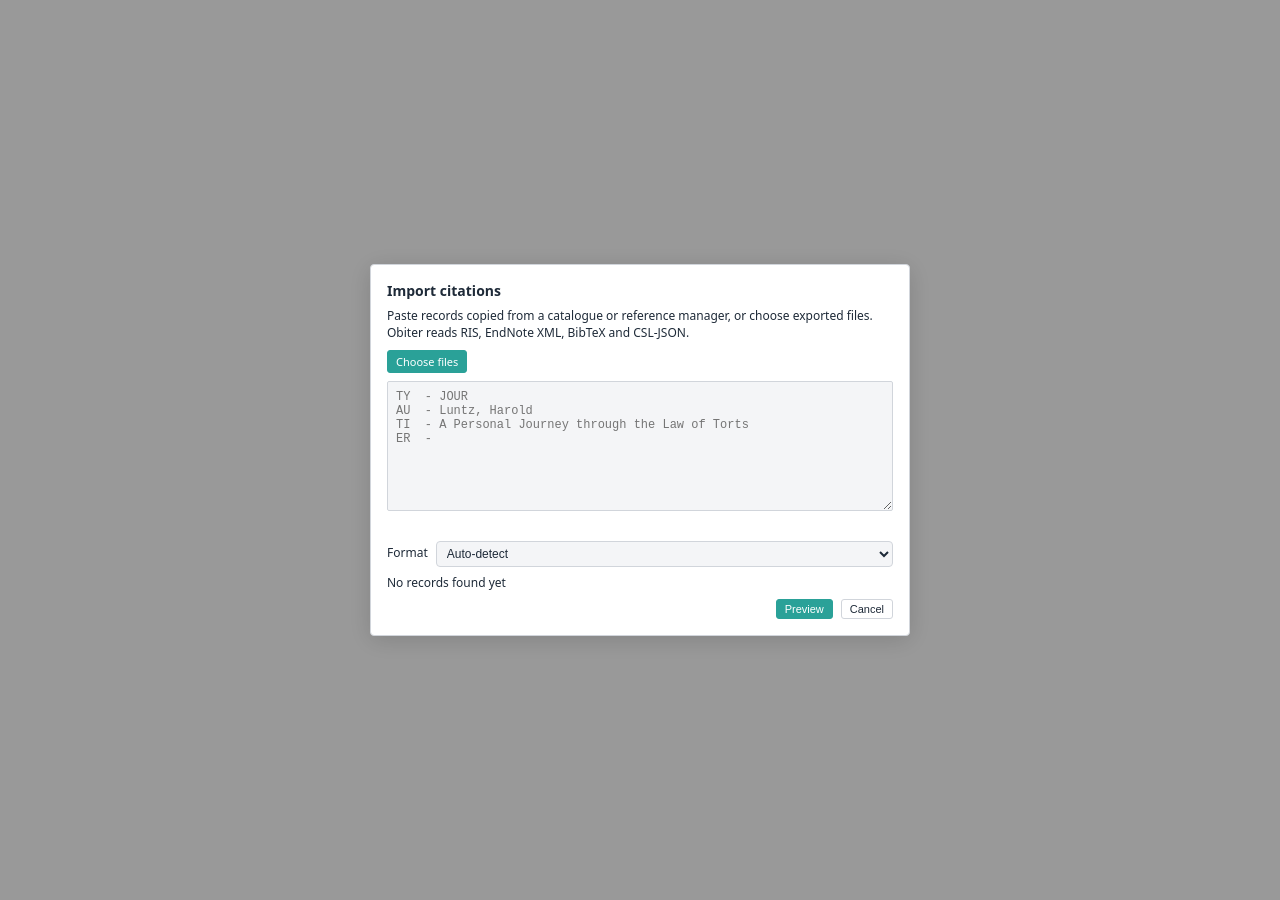
Scenario: ImportDialog: preview step › a failed commit keeps the dialog open with the error copy
Step 1. Replace the text in the text box named "Pasted records" with "TY  - JOUR AU  - Luntz, Harold TI  - A Personal Journey through the Law of Torts JO  - Sydney Law Review VL  - 27 SP  - 393 PY  - 2005 ER  - TY  - BOOK TI  - Untitled Fragment ER  - " → [640, 446], box [387,381,893,511]
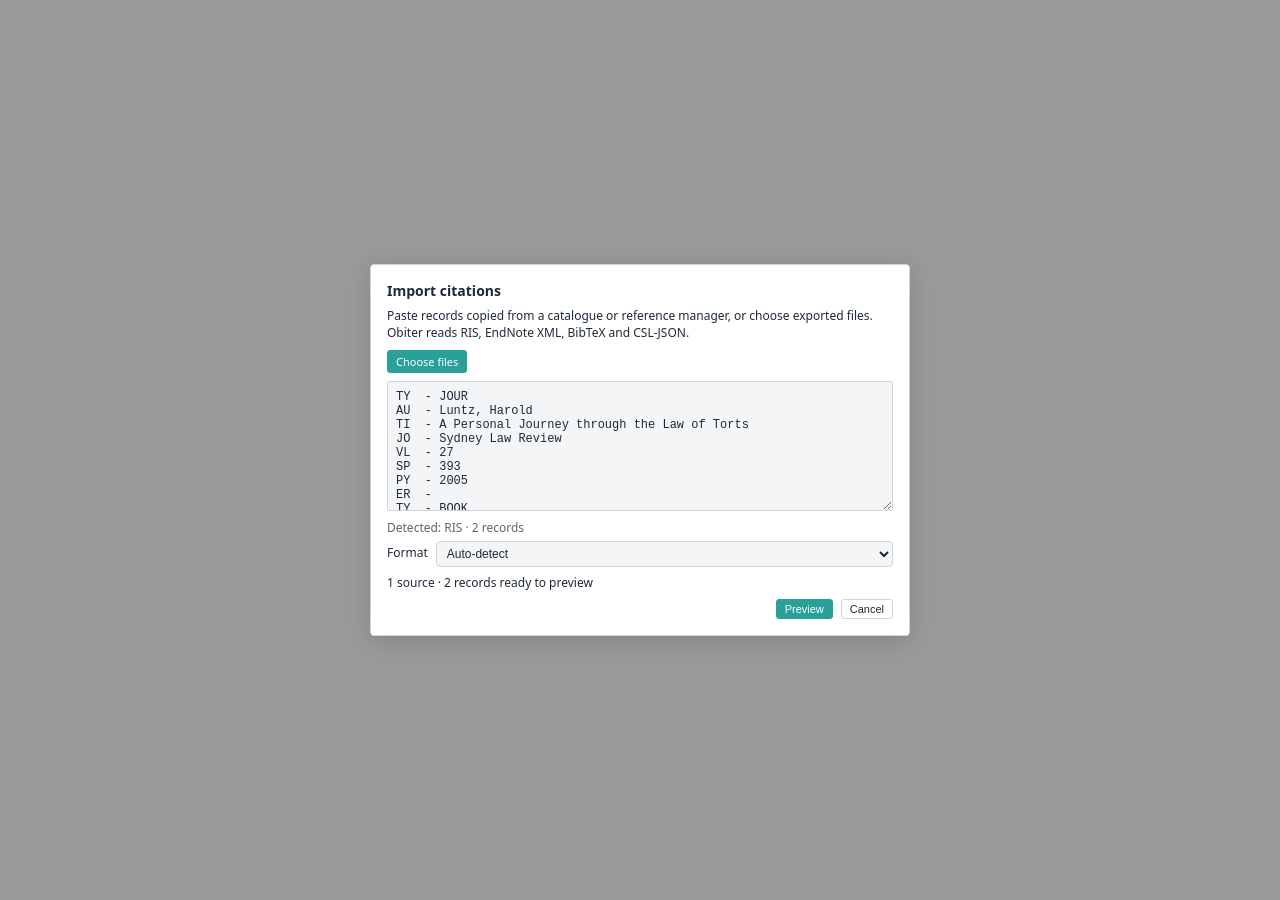
Step 2. Click the button "Preview" → [804, 609], box [776,599,833,619]
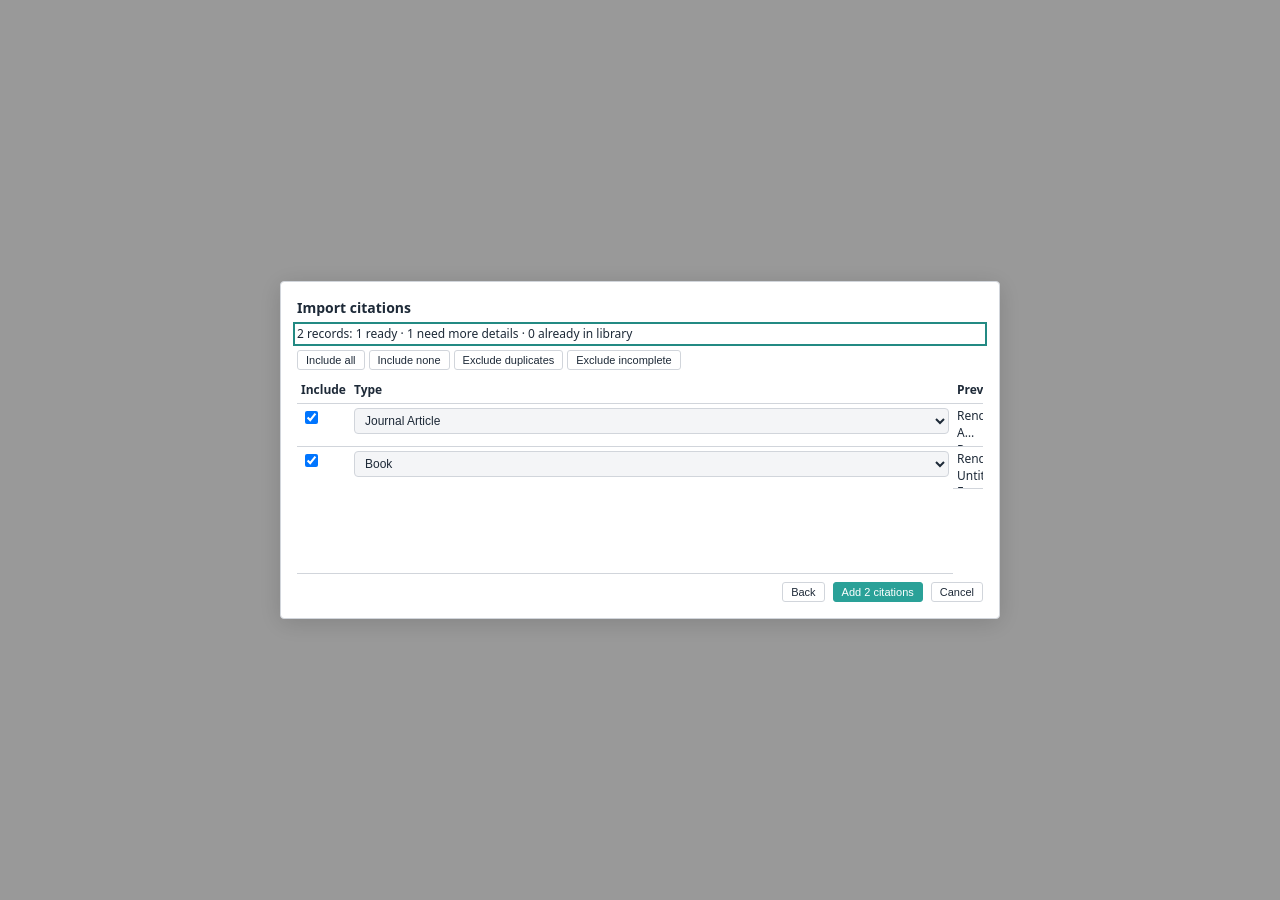
Expected: the table named "Records to import" is shown, [297,378,983,574]
Step 3. Click the button "Add 2 citations" → [878, 592], box [833,582,923,602]
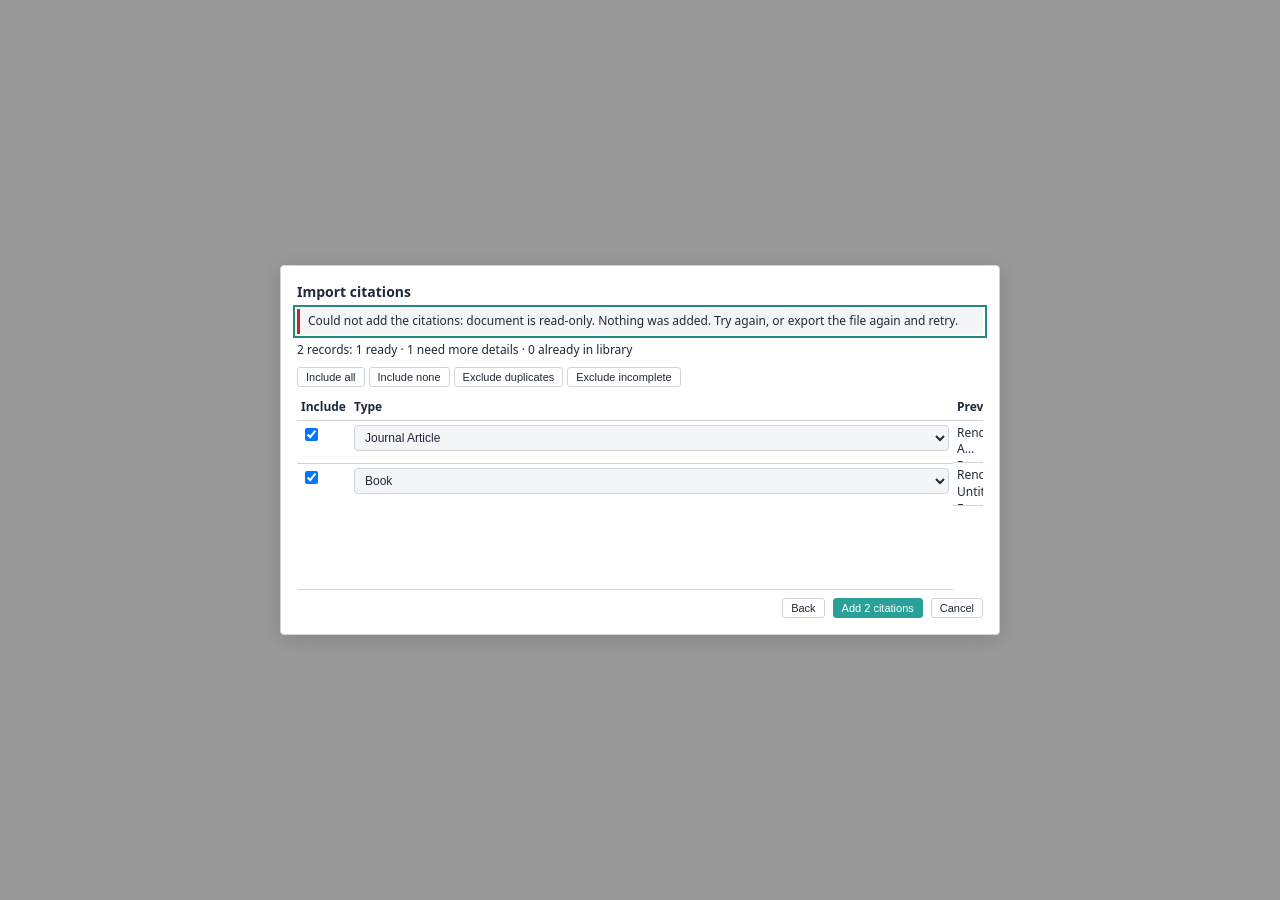
Expected: the dialog is shown, [280,265,1000,635]
Expected: the 1st message shows "Could not add the citations: document is read-only. Nothing was added.", [308,312,958,329]
